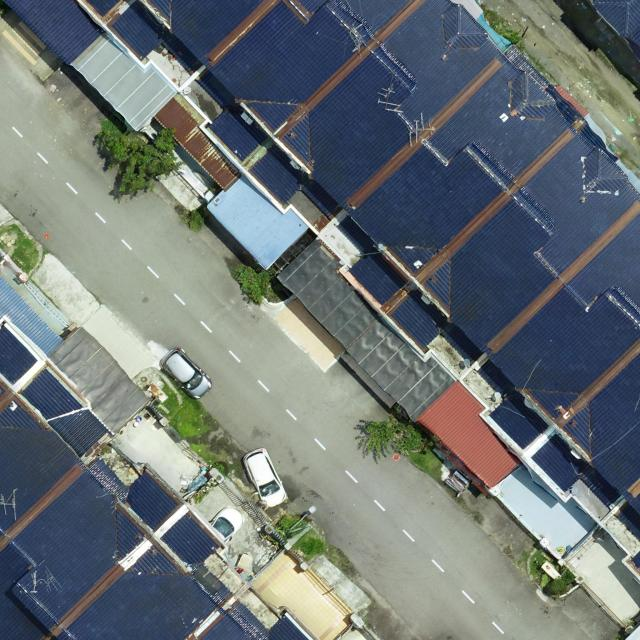Tree: (98, 118, 180, 196), (362, 418, 432, 462), (237, 266, 275, 306)
